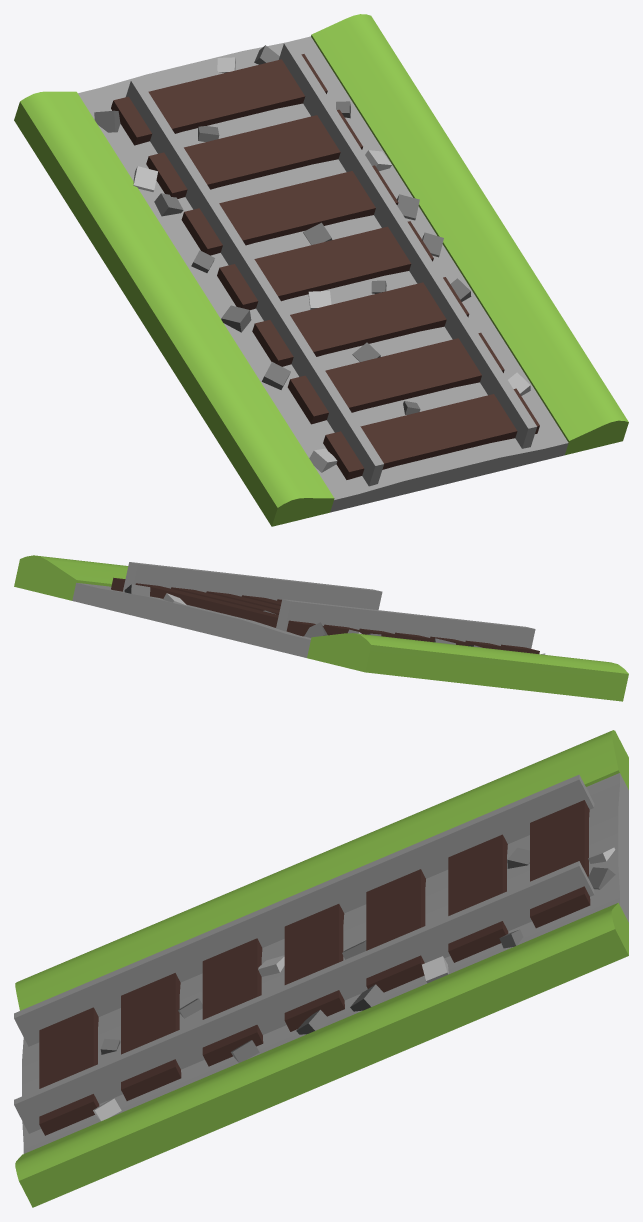
File: railway_track.glb
3 renders of one model, top to bottom at view 1: azimuth 30°, elevation 25°; view 2: azimuth 150°, elevation 25°; view 3: azimuth 270°, elevation 25°, orthographic. The views are drawn at different scales.
Parts seen in each view (by area): view 1: Cube.753; view 2: Cube.753; view 3: Cube.753.
Part boxes in pixels (x1,y1,x2,y2): Cube.753: (14,14,628,526); Cube.753: (14,555,628,701); Cube.753: (14,730,628,1207).
Size of the model in its own units: 1.95 by 1.32 by 2.55.
Materials: 1 (1 with a texture image).
